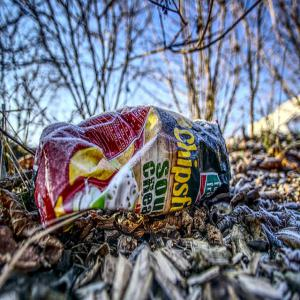Trash: (35, 102, 234, 224)
